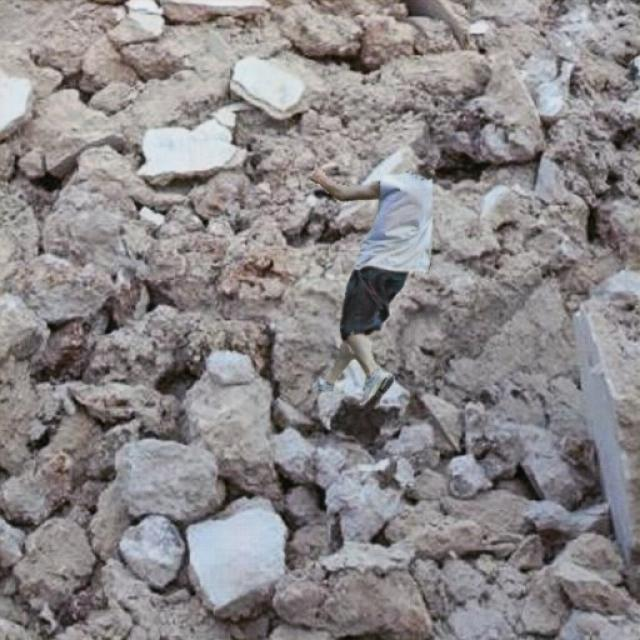Person in Rubble: (311, 168, 431, 408)
